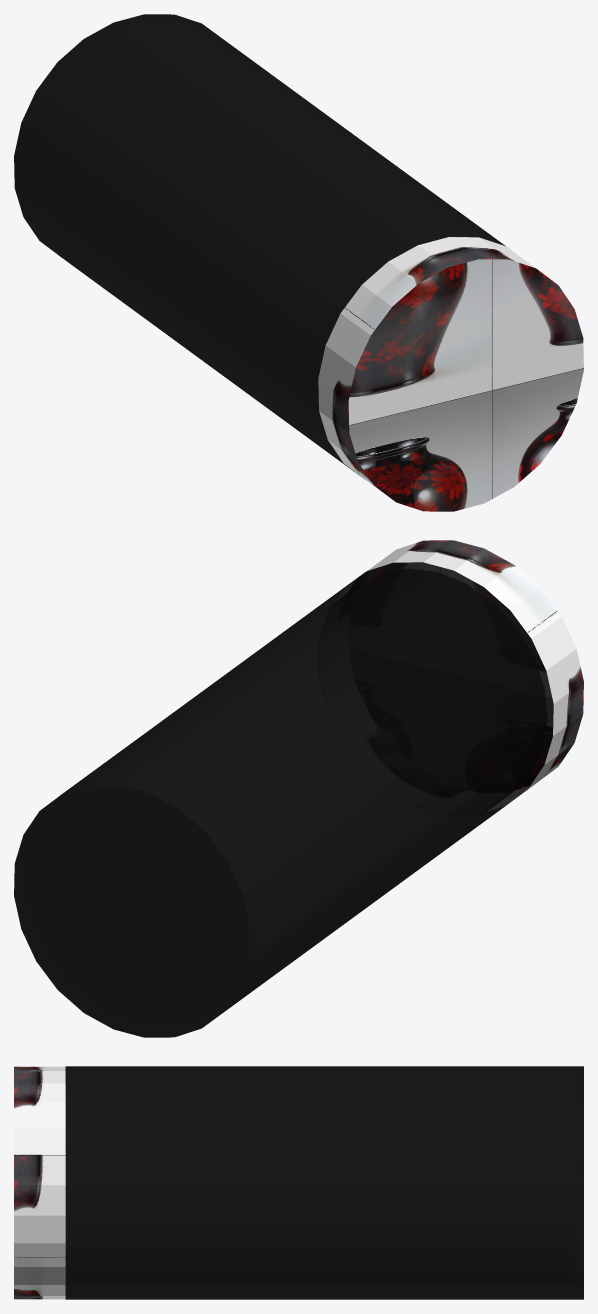
Rendered from model_align.obj.
The picture shows the model from 3 angles, top to bottom: view 1: azimuth 30°, elevation 25°; view 2: azimuth 150°, elevation 25°; view 3: azimuth 270°, elevation 25°; orthographic projection. The views are drawn at different scales.
Size of the model in its own units: 0.0516 by 0.0516 by 0.1269.
